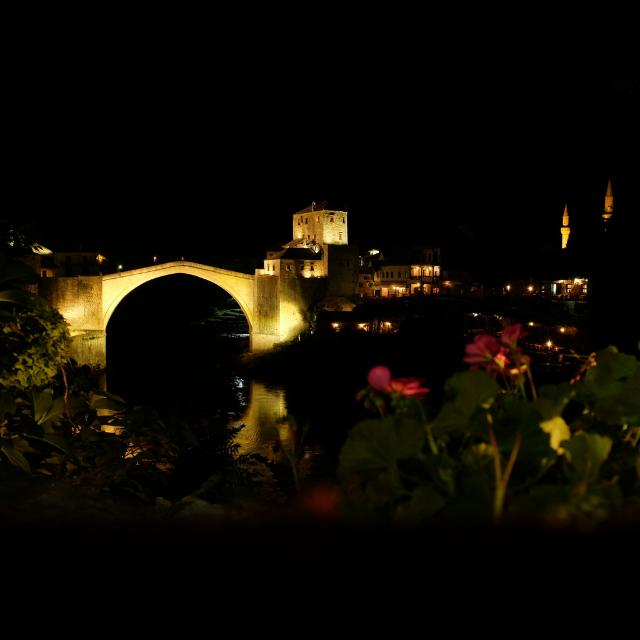Flower: (463, 332, 535, 384), (368, 364, 430, 396)
